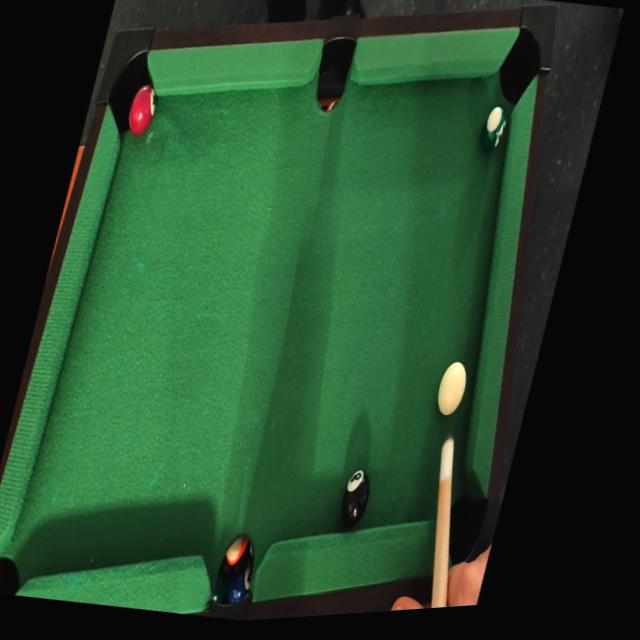cue ball: (430, 354, 474, 419)
other: (471, 89, 516, 170), (331, 458, 376, 533), (119, 70, 163, 144)
